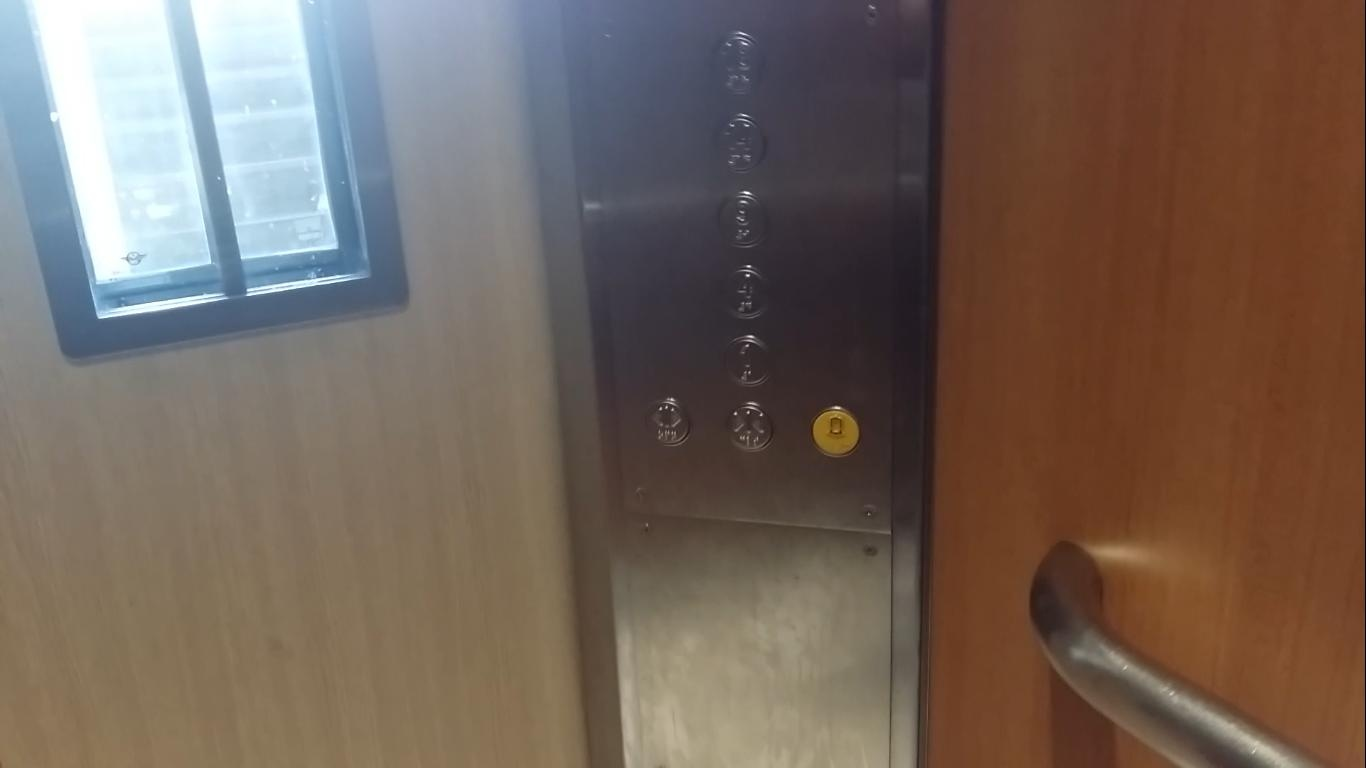1: (718, 334, 774, 387)
14: (711, 112, 769, 176)
4: (719, 264, 770, 322)
9: (715, 189, 769, 252)
alarm: (808, 404, 864, 460)
blur: (707, 28, 771, 99)
close: (722, 400, 775, 454)
open: (641, 397, 694, 449)
